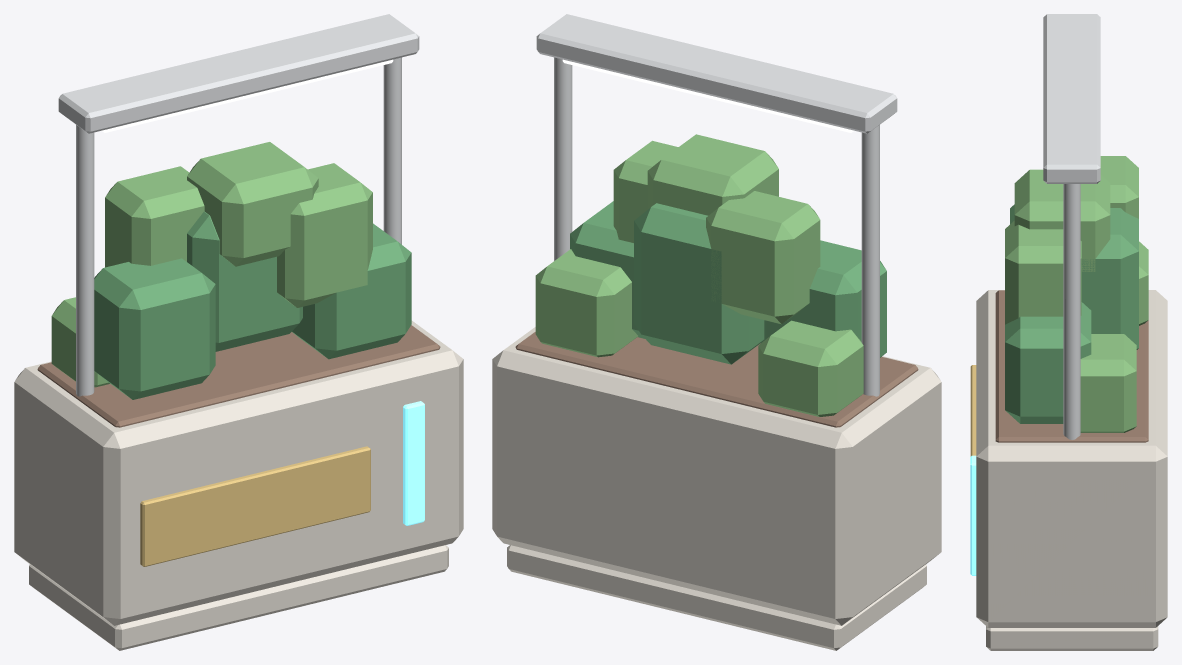
File: hydro_planter.glb
3 views of the same model, side by side, from view 1: azimuth 30°, elevation 25°; view 2: azimuth 150°, elevation 25°; view 3: azimuth 270°, elevation 25° (orthographic). The views are drawn at different scales.
Parts seen in each view (by area): view 1: Hydro_TroughCabinet, Hydro_FoliageMonstera, Hydro_FoliageFern, Hydro_GrowGantryFrame, Hydro_ControlBadge, Hydro_ClaySubstrate, Hydro_WaterSightGlass, Hydro_GrowLightEmitter; view 2: Hydro_TroughCabinet, Hydro_FoliageFern, Hydro_GrowGantryFrame, Hydro_FoliageMonstera, Hydro_ClaySubstrate, Hydro_GrowLightEmitter; view 3: Hydro_TroughCabinet, Hydro_FoliageFern, Hydro_GrowGantryFrame, Hydro_FoliageMonstera, Hydro_ClaySubstrate, Hydro_WaterSightGlass, Hydro_ControlBadge.
Part boxes in pixels (x1,y1,x2,y2): Hydro_TroughCabinet: [14, 320, 463, 650]; Hydro_FoliageMonstera: [94, 211, 411, 399]; Hydro_FoliageFern: [51, 142, 372, 387]; Hydro_GrowGantryFrame: [58, 14, 419, 396]; Hydro_ControlBadge: [140, 446, 370, 566]; Hydro_ClaySubstrate: [37, 325, 440, 427]; Hydro_WaterSightGlass: [403, 401, 424, 525]; Hydro_GrowLightEmitter: [102, 59, 393, 132]; Hydro_TroughCabinet: [492, 327, 941, 650]; Hydro_FoliageFern: [535, 134, 863, 416]; Hydro_GrowGantryFrame: [536, 14, 897, 396]; Hydro_FoliageMonstera: [570, 201, 886, 364]; Hydro_ClaySubstrate: [515, 332, 918, 427]; Hydro_GrowLightEmitter: [562, 59, 853, 132]; Hydro_TroughCabinet: [976, 290, 1167, 650]; Hydro_FoliageFern: [1005, 156, 1148, 432]; Hydro_GrowGantryFrame: [1043, 14, 1100, 439]; Hydro_FoliageMonstera: [1005, 204, 1138, 423]; Hydro_ClaySubstrate: [995, 290, 1148, 442]; Hydro_WaterSightGlass: [970, 455, 976, 575]; Hydro_ControlBadge: [970, 365, 976, 456].
Size of the model in its own units: 0.82 by 1.12 by 0.413.
